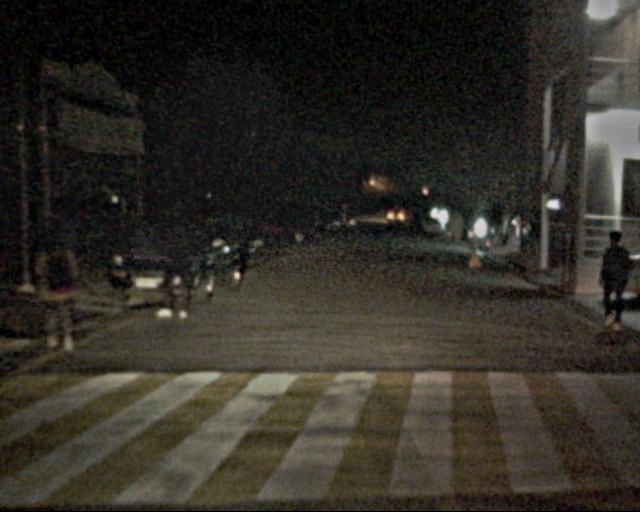person: (35, 222, 96, 357), (154, 211, 205, 324), (589, 231, 637, 336)
